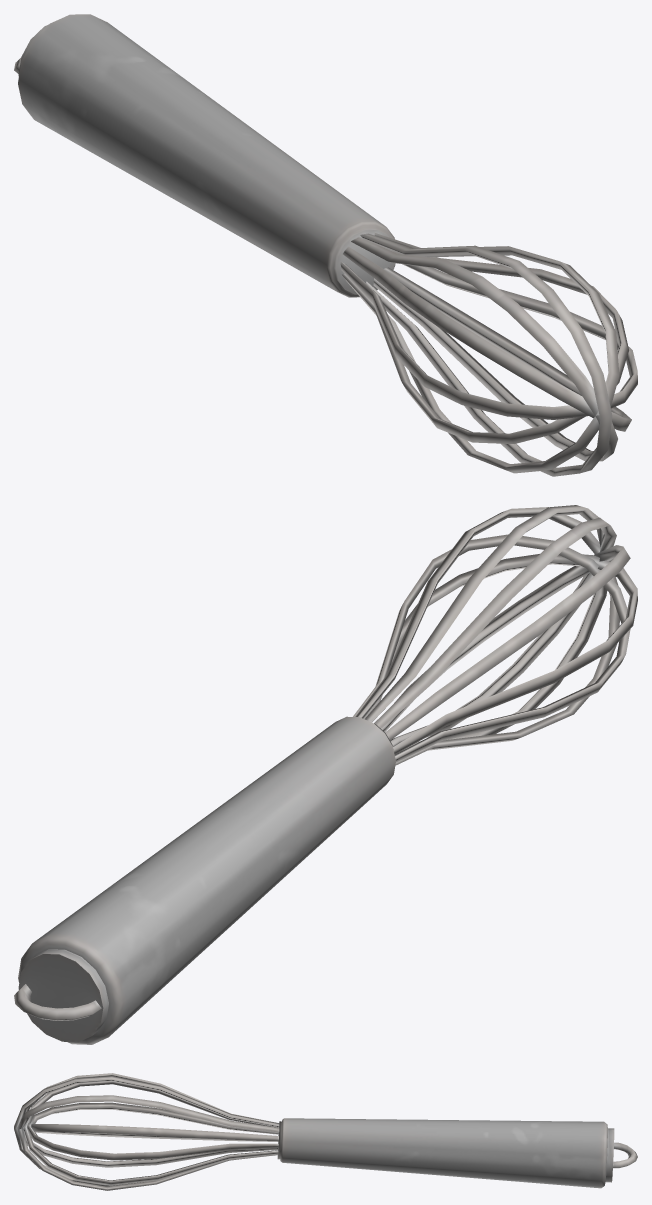
Rendered from SM_KitchenUstensil_Whip.fbx.
3 renders of one model, top to bottom at view 1: azimuth 30°, elevation 25°; view 2: azimuth 150°, elevation 25°; view 3: azimuth 270°, elevation 25°, orthographic. The views are drawn at different scales.
Parts seen in each view (by area): view 1: SM_KitchenUstensil_Whip_LOD0; view 2: SM_KitchenUstensil_Whip_LOD0; view 3: SM_KitchenUstensil_Whip_LOD0.
Boxes of the visible parts, left/top/right/bottom form: SM_KitchenUstensil_Whip_LOD0: left=14, top=14, right=637, bottom=476; SM_KitchenUstensil_Whip_LOD0: left=14, top=505, right=637, bottom=1044; SM_KitchenUstensil_Whip_LOD0: left=14, top=1073, right=637, bottom=1190.
Size of the model in its own units: 10.57 by 55.93 by 10.56.
Materials: 1 (1 with a texture image).
